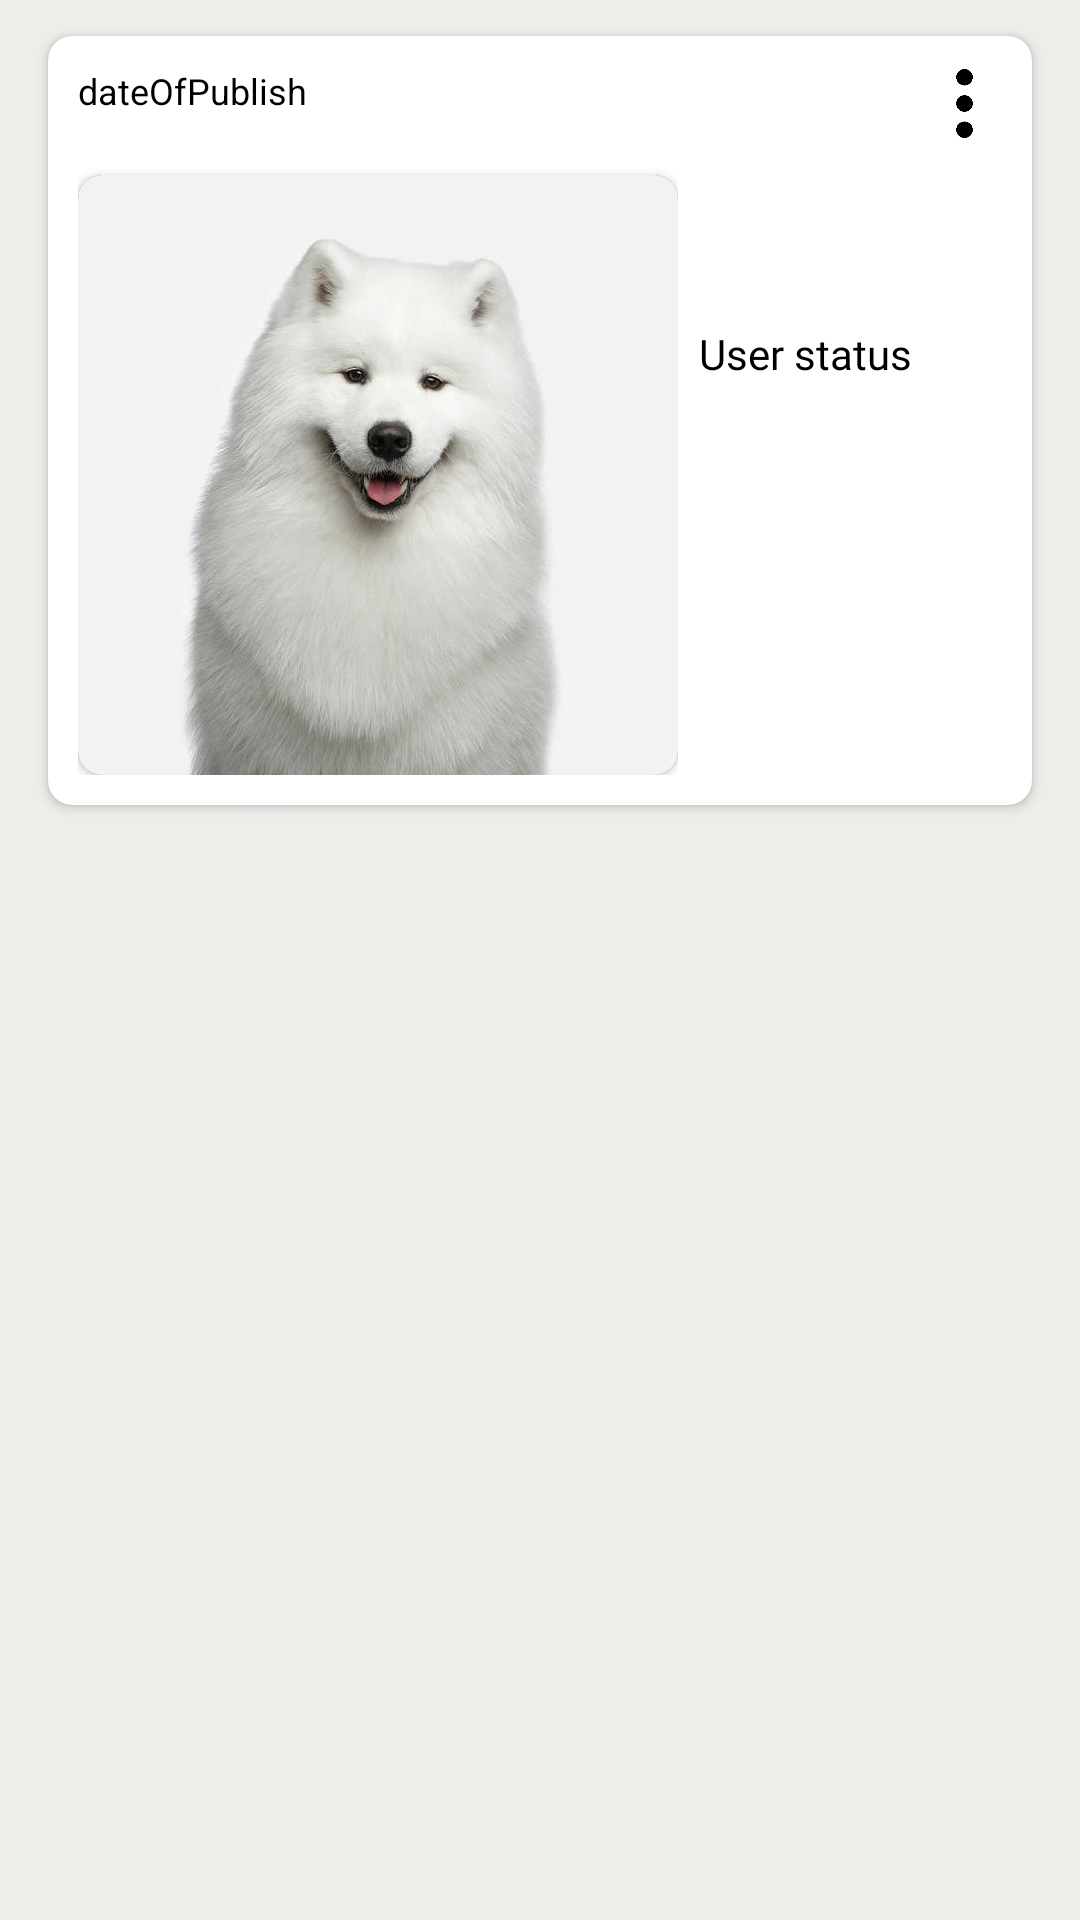

Named icons in this screenshot (1080w x 1920h) and their bounding boxes, [left=x1, top=y1, right=x2, bottom=y2]:
edit or delete options: [left=956, top=69, right=973, bottom=138]
